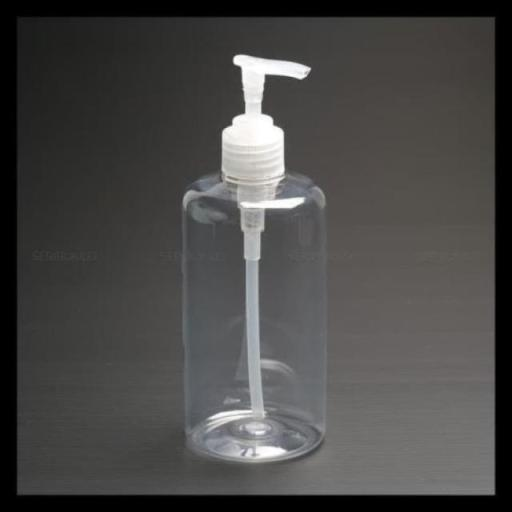plastic: (158, 42, 346, 470)
